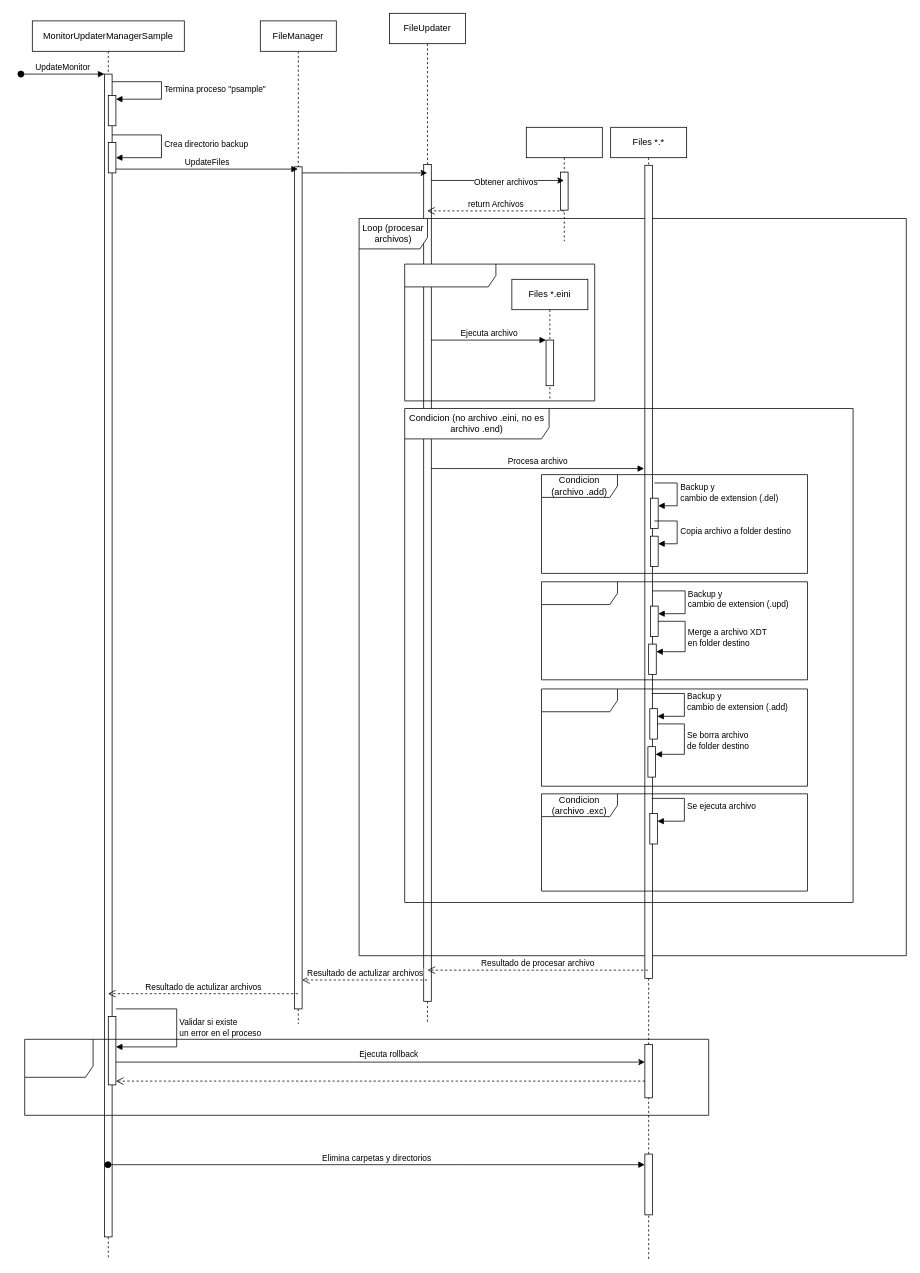
This 920x1273 diagram has some shape labels left out. Each missing label, with the centre of its shape:
Condicion (archivo .del): point 674,737
Condicion (archivo .xmrg): point 674,630
Condicion (es archivo .eini): point 499,332
Condicion (existe error): point 366,1077
Files source: point 564,184
